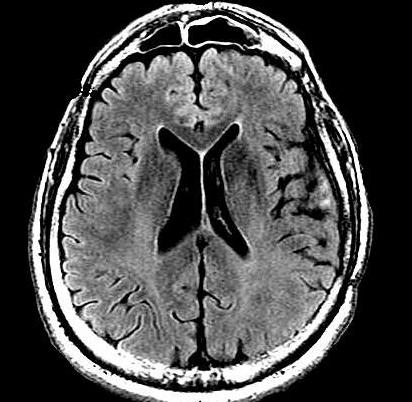Normal_Brain: (1, 1, 396, 402)
